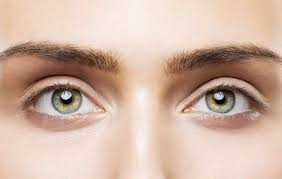pupil: (206, 90, 236, 113), (53, 90, 81, 113)
